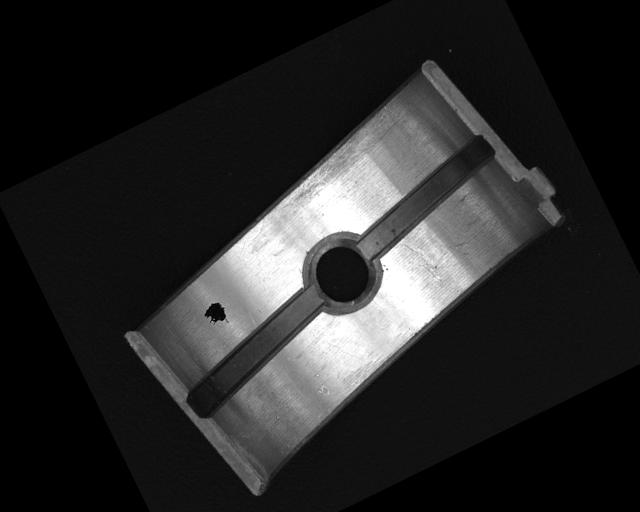blot: (198, 297, 232, 332)
bruise: (447, 237, 474, 262), (316, 381, 333, 400)
gap: (168, 281, 346, 419), (338, 132, 514, 262)
hole: (291, 220, 393, 325)
nick: (399, 229, 445, 291)
scratch: (260, 102, 414, 216)
